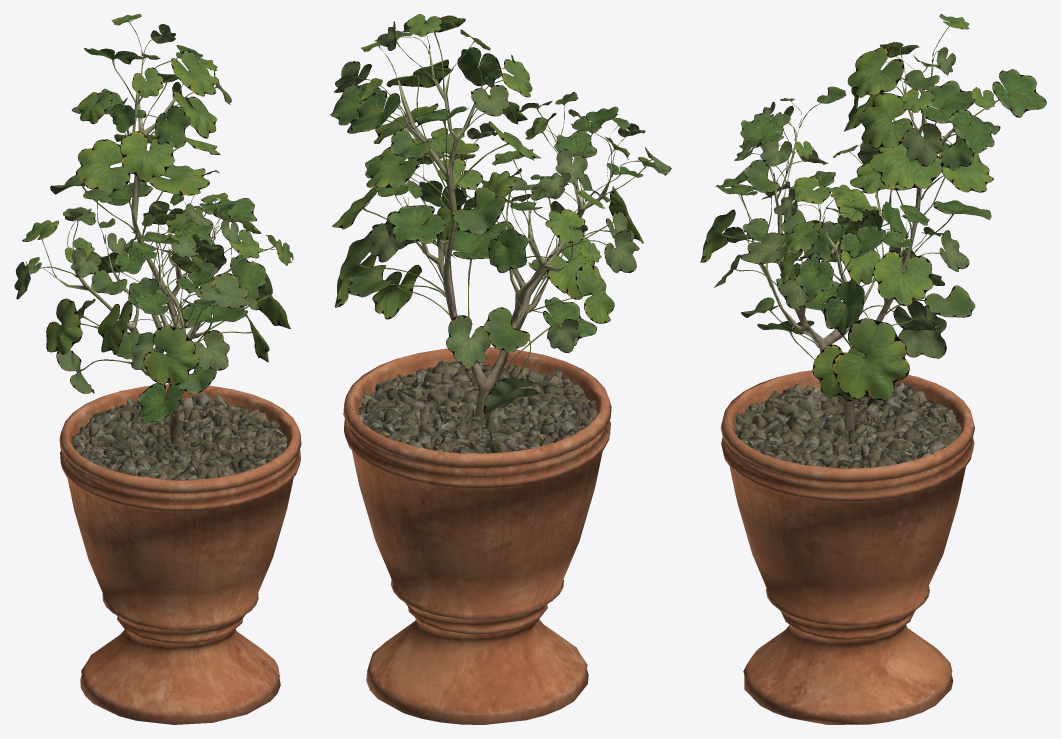
File: planta-arvore.glb
3 renders of one model, left to right at view 1: azimuth 30°, elevation 25°; view 2: azimuth 150°, elevation 25°; view 3: azimuth 270°, elevation 25°, orthographic. The views are drawn at different scales.
Visible parts, largest first — view 1: potted_plant_01_stem, potted_plant_01_leaves; view 2: potted_plant_01_stem, potted_plant_01_leaves; view 3: potted_plant_01_stem, potted_plant_01_leaves.
Boxes of the visible parts, x1,y1,x2,y2 form: potted_plant_01_stem: [54, 55, 301, 724]; potted_plant_01_leaves: [14, 14, 293, 423]; potted_plant_01_stem: [343, 48, 612, 724]; potted_plant_01_leaves: [330, 14, 671, 413]; potted_plant_01_stem: [720, 56, 974, 724]; potted_plant_01_leaves: [700, 14, 1046, 401].
Bounding box in the file's own units: 0.5874 × 1.34 × 0.6336.
2 materials, 2 textured.
